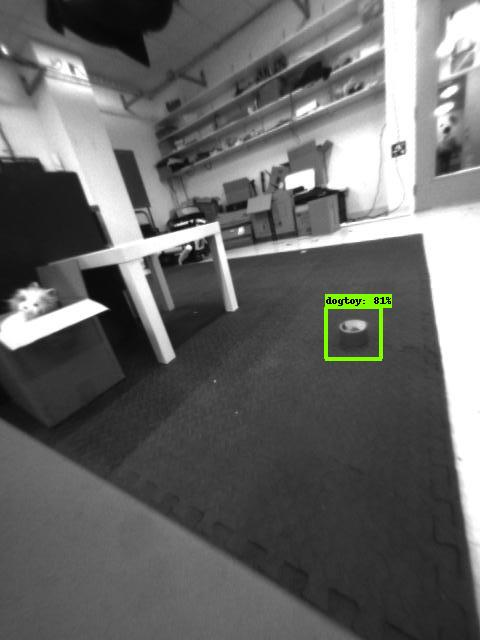dogtoy: (326, 310, 381, 357)
